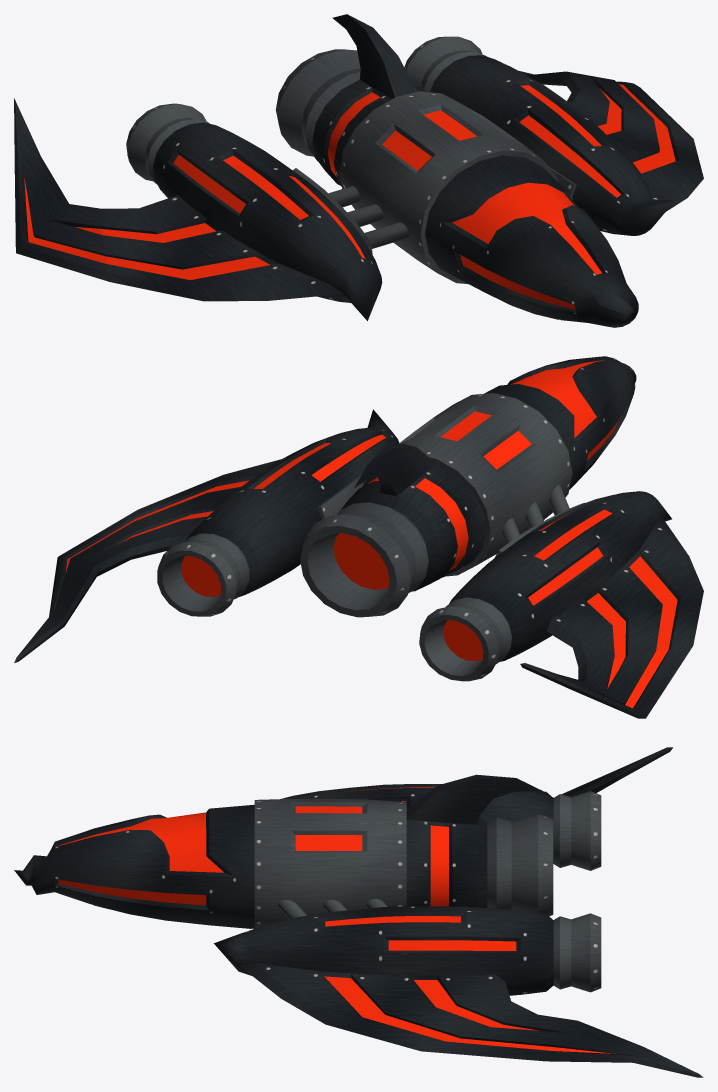
Rendered from Bloaty_80.fbx.
3 views of the same model, one above another, from view 1: azimuth 30°, elevation 25°; view 2: azimuth 150°, elevation 25°; view 3: azimuth 270°, elevation 25° (orthographic). The views are drawn at different scales.
Visible parts, largest first — view 1: Boaty_80, rightBooster, leftBooster1, polySurface12, polySurface14; view 2: Boaty_80, rightBooster, leftBooster1; view 3: Boaty_80, leftBooster1, rightBooster.
Part boxes in pixels (bbox=[...]): Boaty_80: bbox=[275, 14, 638, 327]; rightBooster: bbox=[14, 98, 382, 320]; leftBooster1: bbox=[404, 36, 703, 235]; polySurface12: bbox=[364, 222, 408, 248]; polySurface14: bbox=[347, 204, 383, 226]; Boaty_80: bbox=[300, 356, 636, 617]; rightBooster: bbox=[419, 491, 703, 718]; leftBooster1: bbox=[14, 409, 399, 662]; Boaty_80: bbox=[14, 774, 553, 928]; leftBooster1: bbox=[214, 906, 703, 1077]; rightBooster: bbox=[281, 747, 672, 870].
Bounding box in the file's own units: 43.22 × 13.39 × 45.81.
